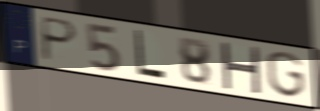5: (84, 20, 124, 74)
8: (176, 36, 213, 86)
G: (264, 50, 308, 100)
H: (218, 40, 262, 96)
L: (133, 28, 167, 82)
P: (39, 14, 80, 63)
